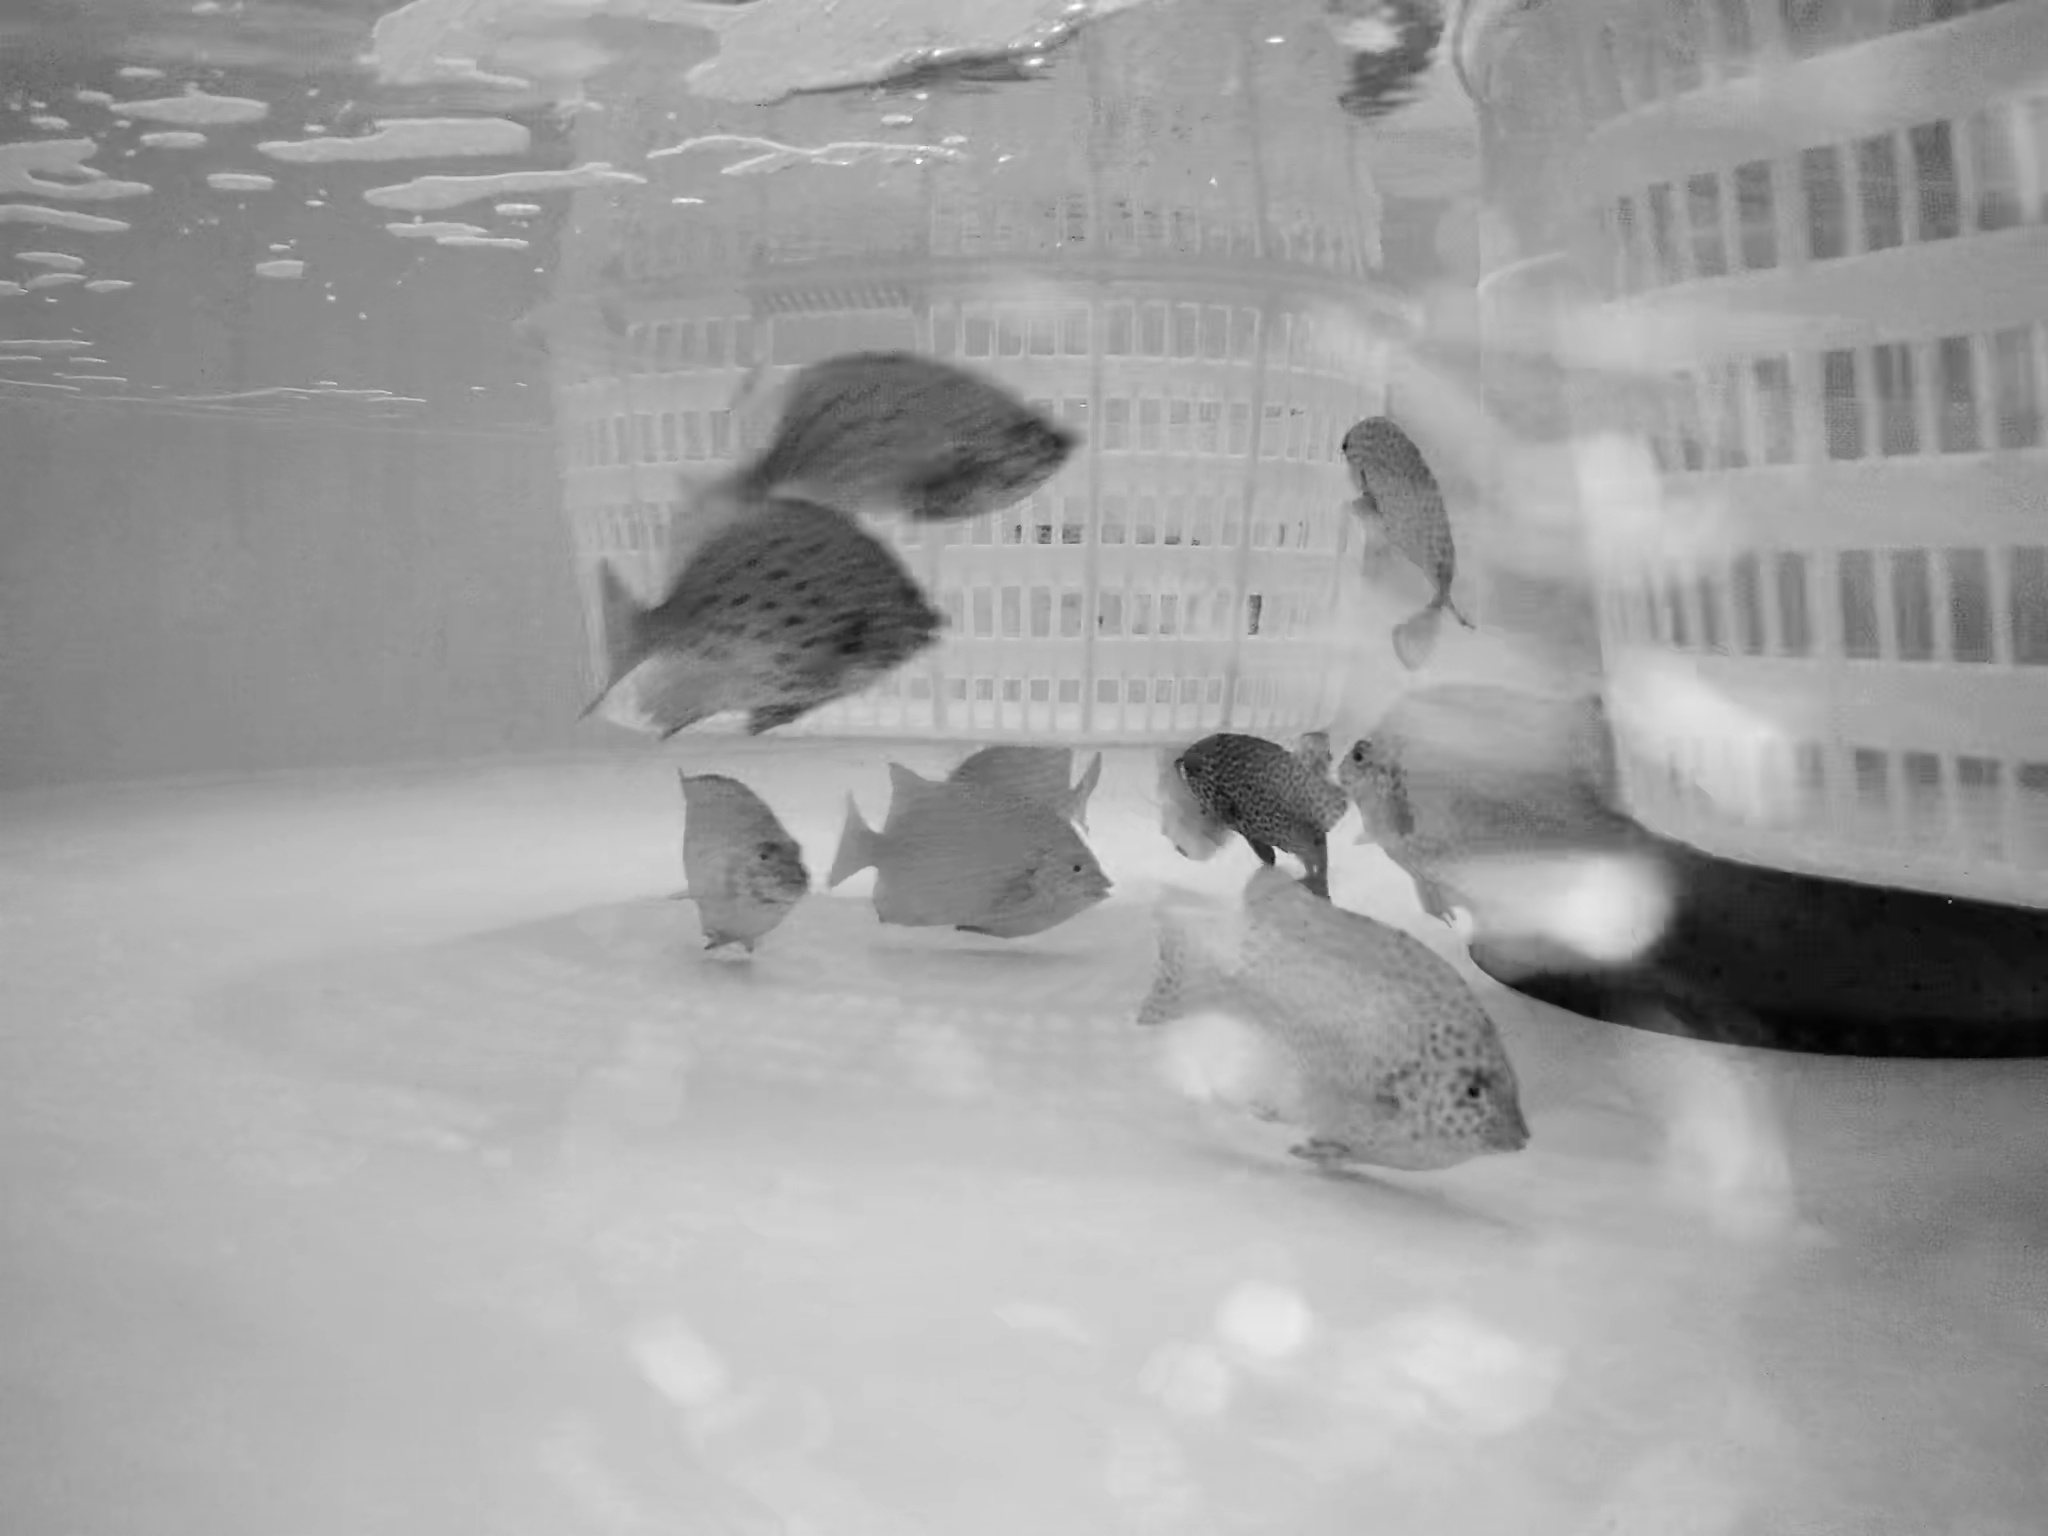fish: (1151, 879, 1534, 1189), (579, 499, 945, 753), (1348, 676, 1646, 936), (701, 349, 1089, 545), (832, 768, 1103, 942), (1326, 410, 1477, 665), (664, 758, 822, 955), (1182, 741, 1342, 865), (937, 744, 1122, 839), (1138, 728, 1237, 868)
